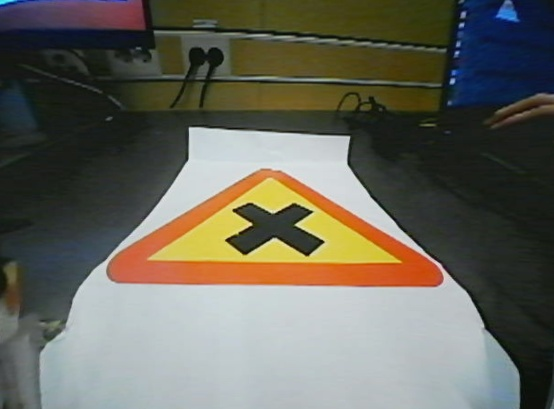junction: (116, 156, 458, 296)
